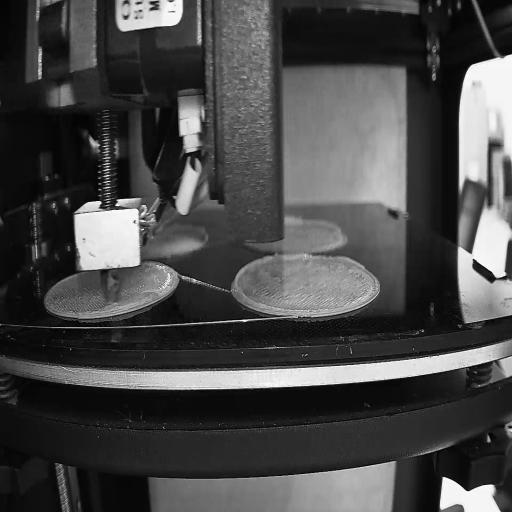over_extrusion: (234, 252, 313, 314), (286, 216, 344, 235), (170, 220, 208, 237), (333, 251, 366, 270)
